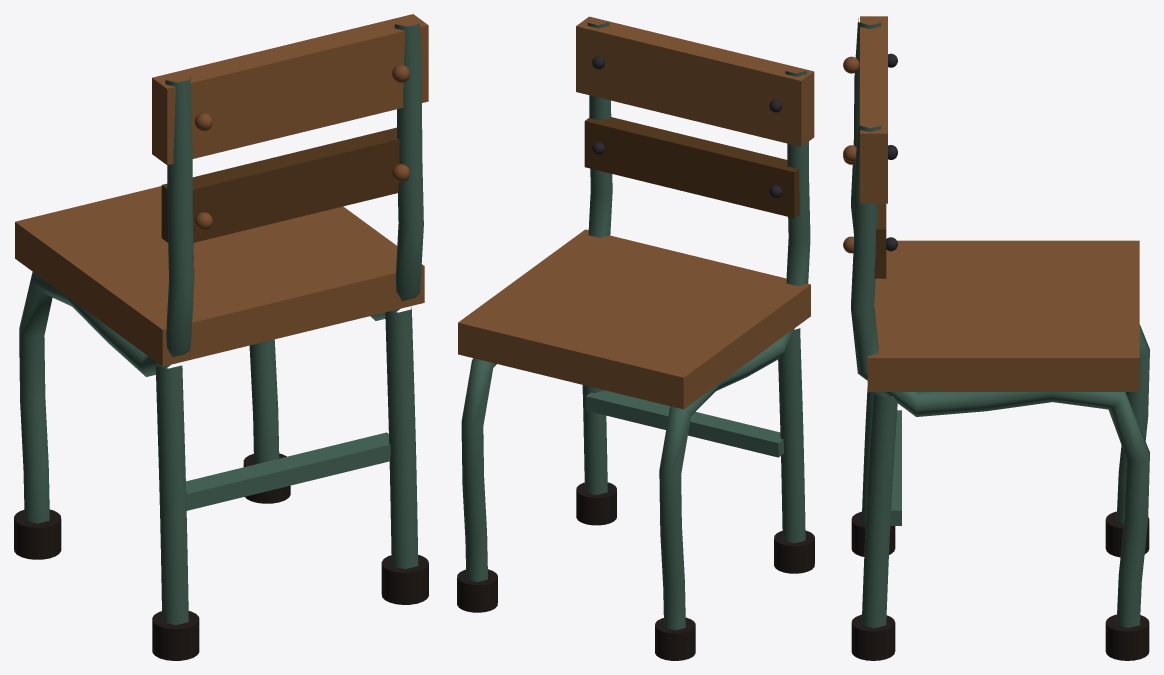
The model's file is mia-chair.glb.
3 renders of one model, left to right at view 1: azimuth 30°, elevation 25°; view 2: azimuth 150°, elevation 25°; view 3: azimuth 270°, elevation 25°, orthographic. The views are drawn at different scales.
Visible parts, largest first — view 1: Body_oak, Body_sage, Body_wood, Body_black, Body_rust; view 2: Body_oak, Body_sage, Body_wood, Body_black, Body_iron; view 3: Body_oak, Body_sage, Body_black, Body_wood, Body_rust.
Boxes of the visible parts, bbox=[...] form: Body_oak: bbox=[15, 14, 428, 366]; Body_sage: bbox=[19, 23, 423, 625]; Body_wood: bbox=[161, 127, 399, 242]; Body_black: bbox=[14, 453, 428, 660]; Body_rust: bbox=[194, 64, 410, 230]; Body_oak: bbox=[458, 16, 814, 409]; Body_sage: bbox=[461, 22, 810, 630]; Body_wood: bbox=[584, 117, 799, 218]; Body_black: bbox=[457, 482, 814, 660]; Body_iron: bbox=[592, 56, 782, 198]; Body_oak: bbox=[860, 16, 1139, 391]; Body_sage: bbox=[851, 18, 1149, 628]; Body_black: bbox=[851, 511, 1149, 660]; Body_wood: bbox=[874, 203, 886, 278]; Body_rust: bbox=[843, 56, 859, 253].
Bounding box in the file's own units: 0.408 × 0.8296 × 0.4357.
